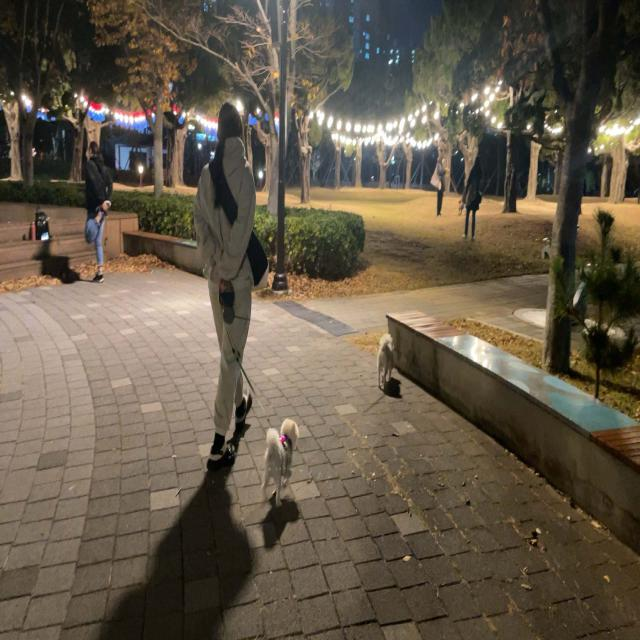Leashed_Dog: (241, 268, 396, 392), (220, 340, 299, 507)
